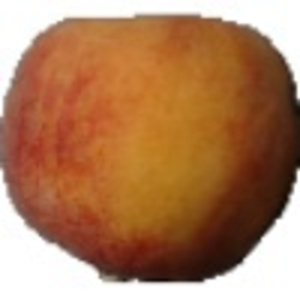pêssego: (1, 11, 300, 286)
